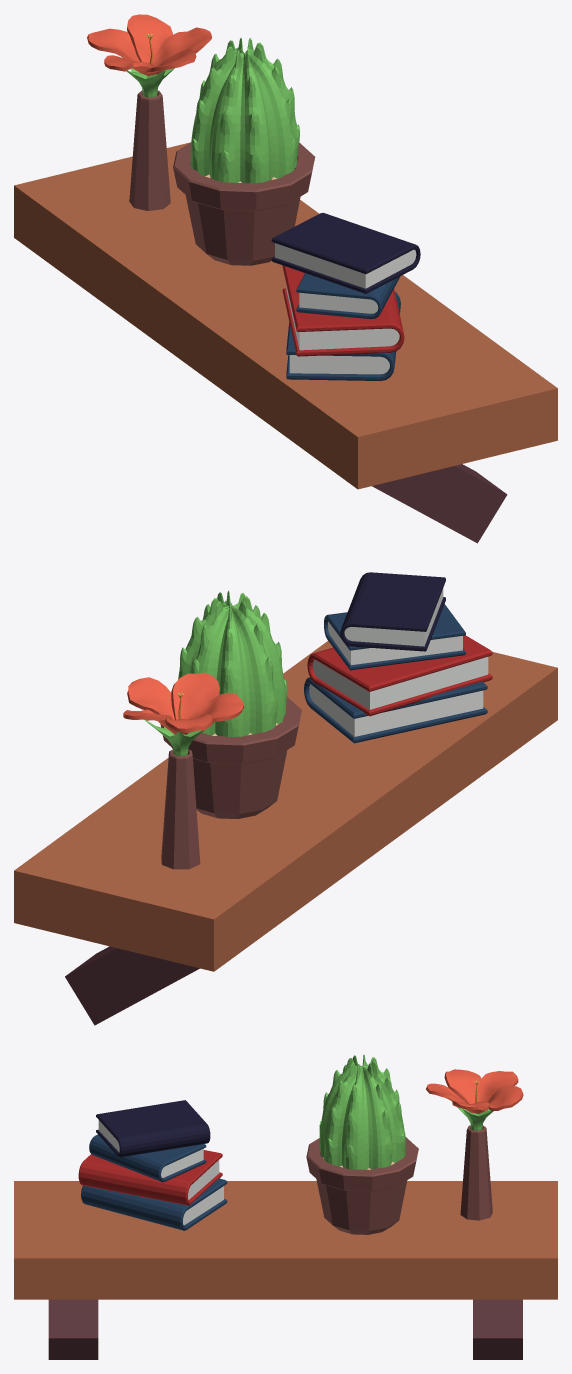
File: Estante-flores 1.fbx
3 views of the same model, one above another, from view 1: azimuth 30°, elevation 25°; view 2: azimuth 150°, elevation 25°; view 3: azimuth 270°, elevation 25° (orthographic). The views are drawn at different scales.
Parts seen in each view (by area): view 1: Cube.114, Sphere, Cylinder.001, Cylinder.014, Cylinder.012, Cylinder.015, Cylinder.013; view 2: Cube.114, Sphere, Cylinder.001, Cylinder.012, Cylinder.014, Cylinder.015, Cylinder.013; view 3: Cube.114, Sphere, Cylinder.001, Cylinder.014, Cylinder.012, Cylinder.015, Cylinder.013.
Boxes of the visible parts, x1,y1,x2,y2 form: Cube.114: (14, 142, 557, 543); Sphere: (173, 38, 315, 265); Cylinder.001: (87, 14, 211, 210); Cylinder.014: (271, 212, 420, 293); Cylinder.012: (282, 265, 404, 356); Cylinder.015: (286, 292, 400, 380); Cylinder.013: (296, 273, 400, 319); Cube.114: (14, 641, 557, 1025); Sphere: (160, 590, 301, 818); Cylinder.001: (123, 672, 243, 869); Cylinder.012: (307, 635, 492, 716); Cylinder.014: (340, 572, 445, 651); Cylinder.015: (304, 677, 487, 743); Cylinder.013: (324, 604, 465, 670); Cube.114: (14, 1181, 557, 1359); Sphere: (306, 1054, 418, 1234); Cylinder.001: (426, 1069, 523, 1220); Cylinder.014: (96, 1100, 210, 1157); Cylinder.012: (78, 1150, 222, 1205); Cylinder.015: (81, 1178, 227, 1230); Cylinder.013: (89, 1134, 206, 1182).
Bounding box in the file's own units: 0.5774 × 0.9969 × 1.71.
